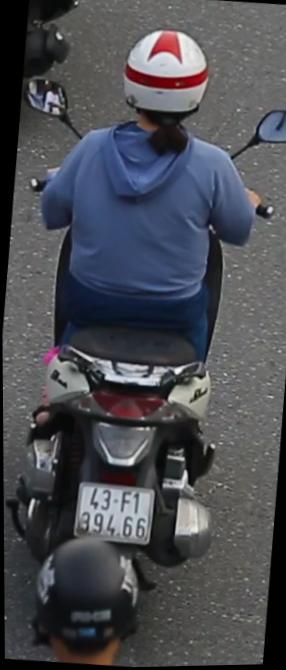LP: (67, 472, 158, 553)
helmet: (116, 21, 215, 161)
